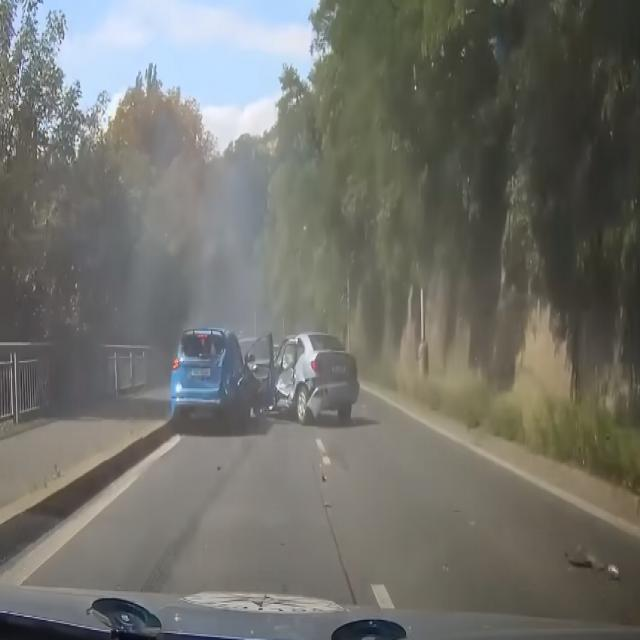accident: (167, 322, 360, 432)
